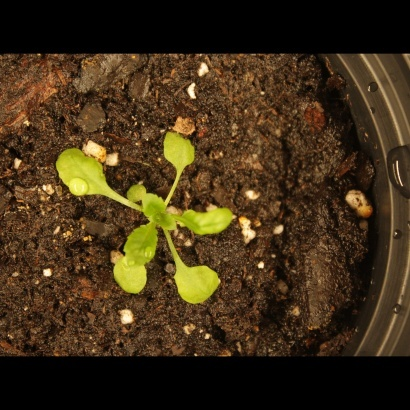leaf: (48, 141, 115, 199), (167, 261, 224, 312), (181, 203, 248, 237), (156, 125, 200, 175), (107, 256, 152, 299), (120, 221, 161, 266), (139, 194, 166, 218), (126, 182, 149, 205), (156, 213, 179, 236)
